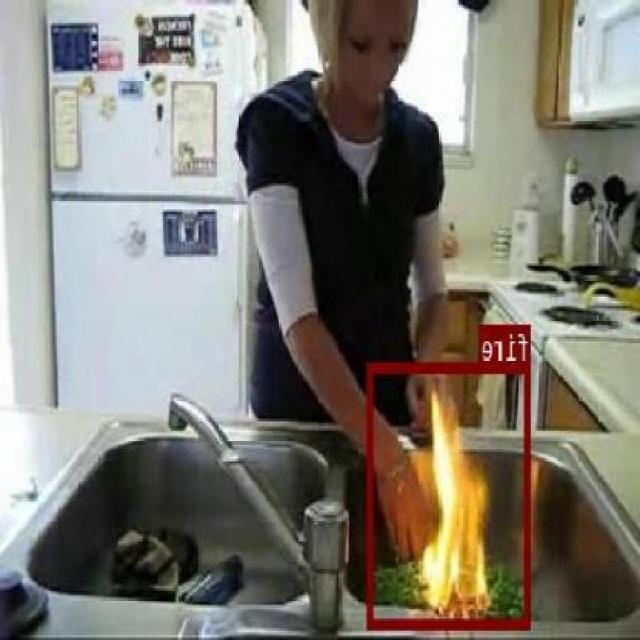Fire: (368, 361, 532, 628)
